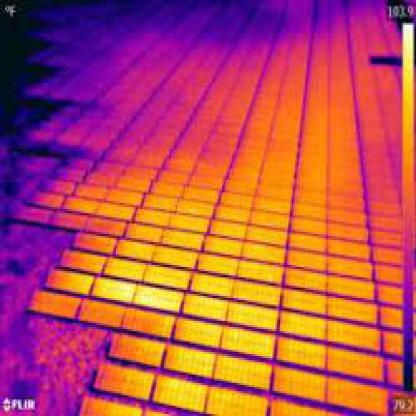Defects: (99, 278, 169, 309)
